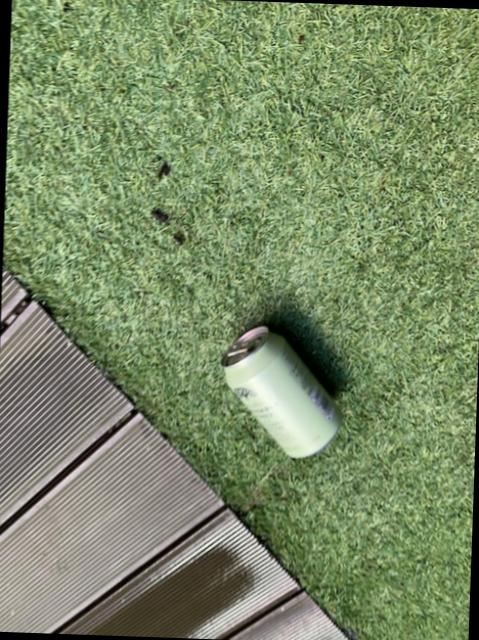metal: (0, 269, 347, 640), (220, 327, 339, 458)
